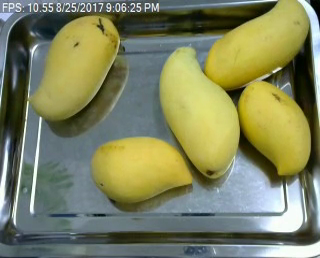Mango: (154, 43, 243, 178), (29, 11, 121, 123), (205, 0, 311, 88), (88, 134, 195, 205), (236, 81, 311, 177)
